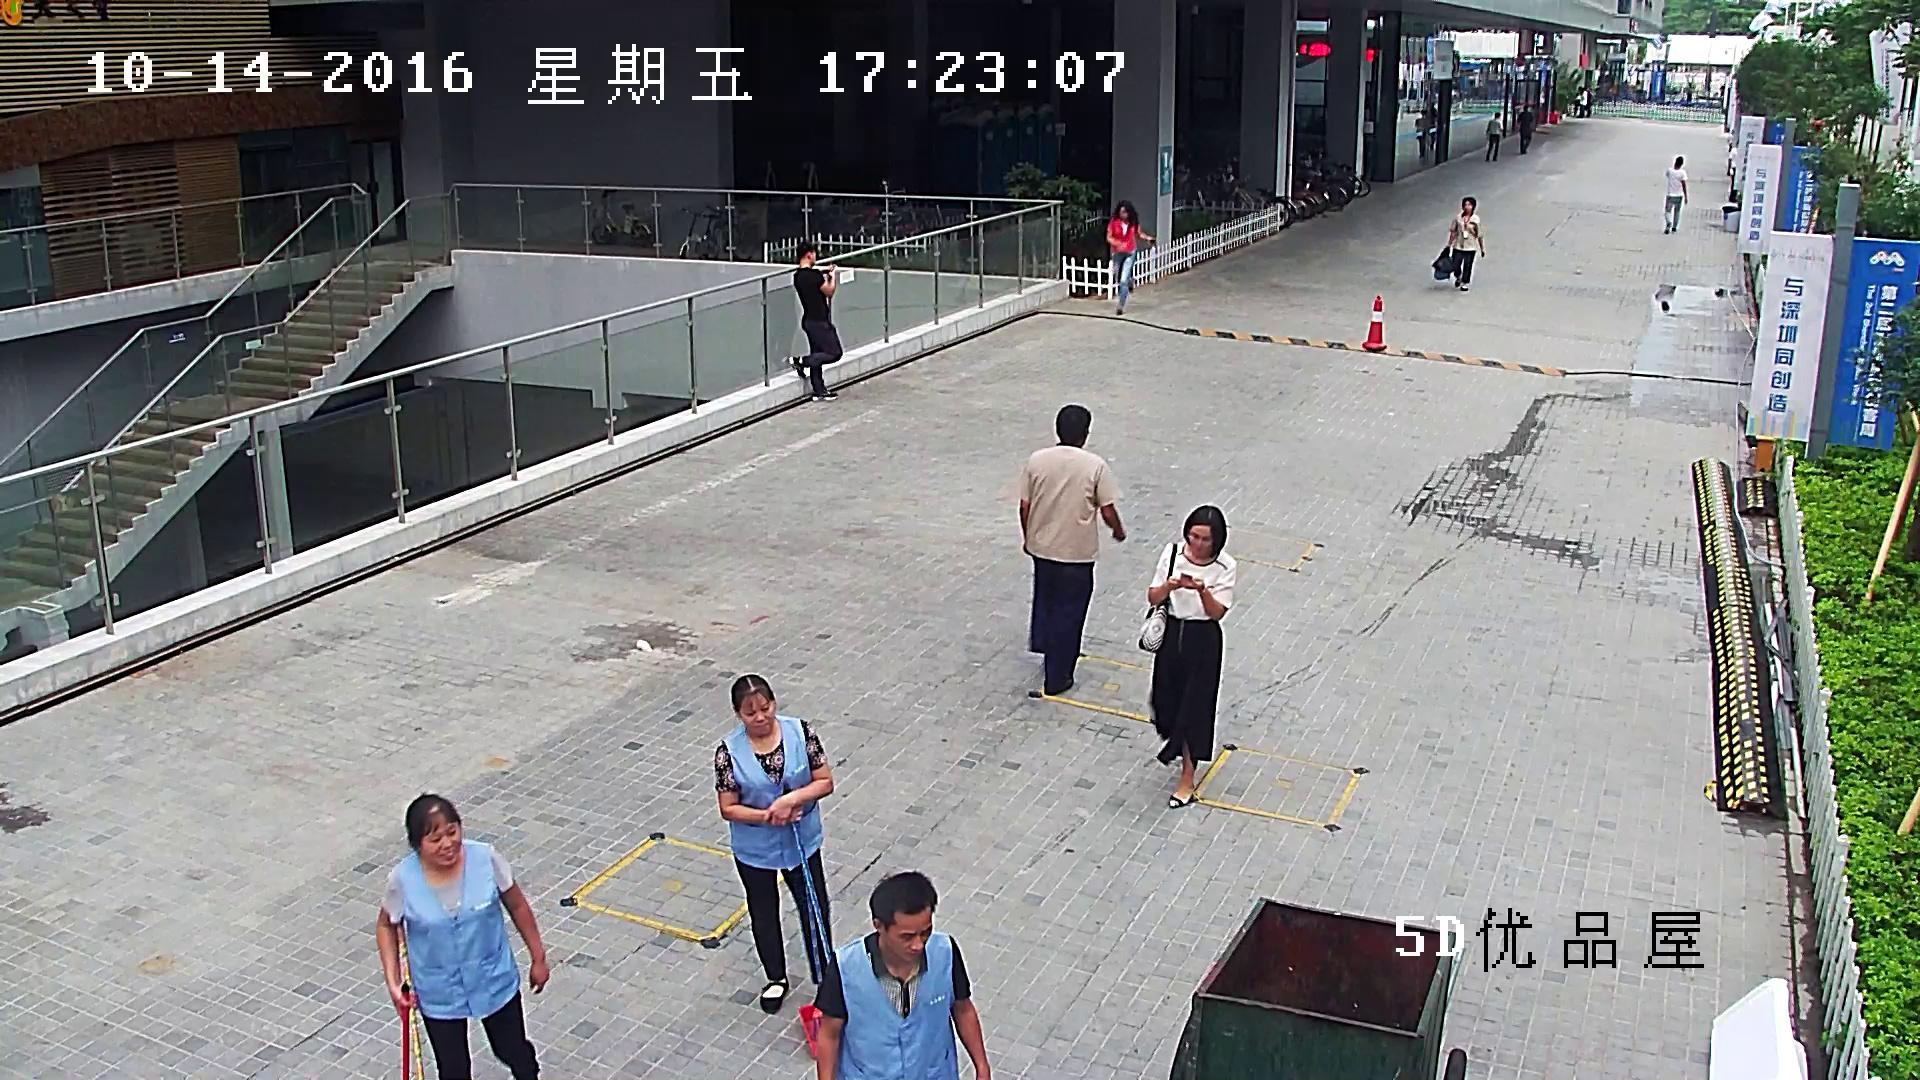person: (374, 792, 550, 1080), (713, 672, 836, 1061), (812, 869, 992, 1080), (1018, 403, 1127, 697), (1136, 503, 1239, 809), (785, 239, 845, 402), (1105, 199, 1156, 316), (1431, 196, 1485, 292), (1664, 155, 1688, 234), (1516, 104, 1536, 155), (1484, 112, 1502, 162), (1414, 108, 1431, 160)
